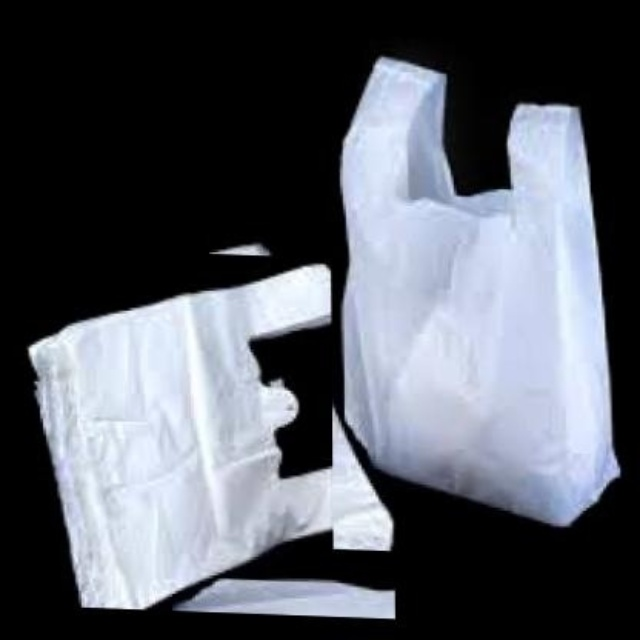trash: (342, 57, 617, 523), (29, 265, 331, 608)
